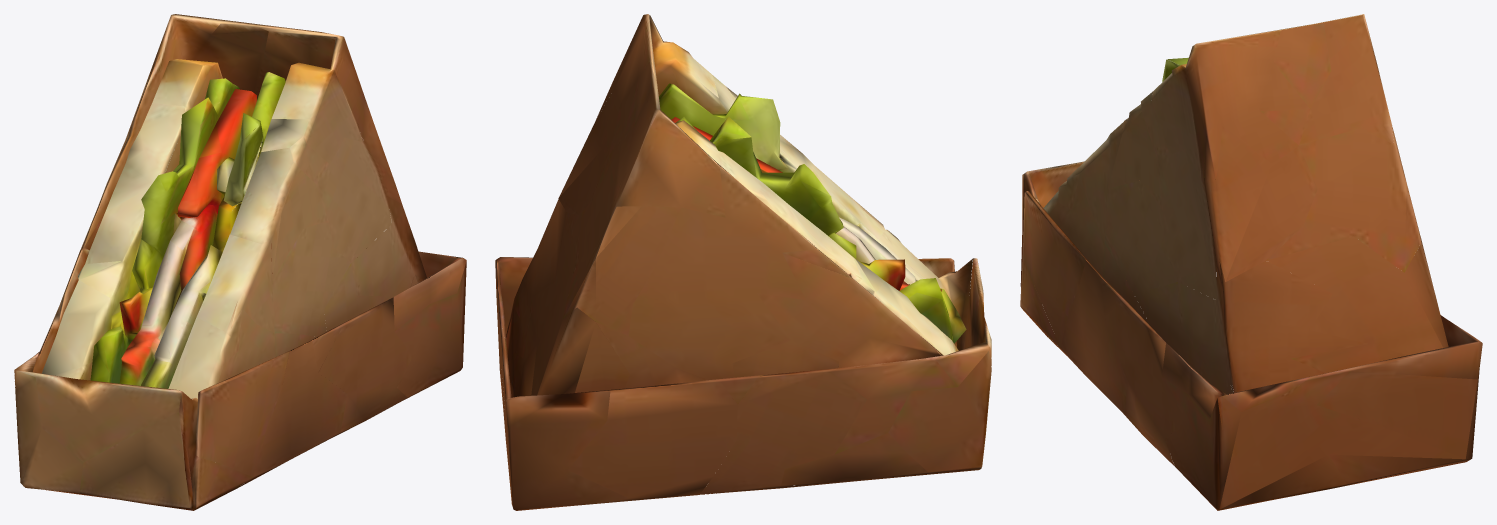
File: sandwich.glb
3 renders of one model, left to right at view 1: azimuth 30°, elevation 25°; view 2: azimuth 150°, elevation 25°; view 3: azimuth 270°, elevation 25°, orthographic. The views are drawn at different scales.
Visible parts, largest first — view 1: item; view 2: item; view 3: item.
Part boxes in pixels (x1,y1,x2,y2): item: (14, 14, 466, 510); item: (495, 14, 991, 510); item: (1020, 14, 1482, 510).
Size of the model in its own units: 0.1393 by 0.1118 by 0.1122.
1 material, 1 textured.
